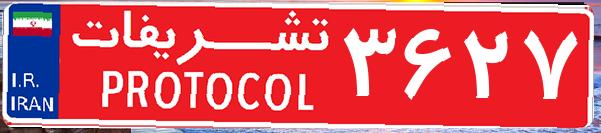2: (460, 20, 520, 115)
3: (340, 20, 400, 115)
6: (400, 20, 460, 115)
7: (520, 20, 580, 115)
تشریفات: (60, 8, 340, 125)
